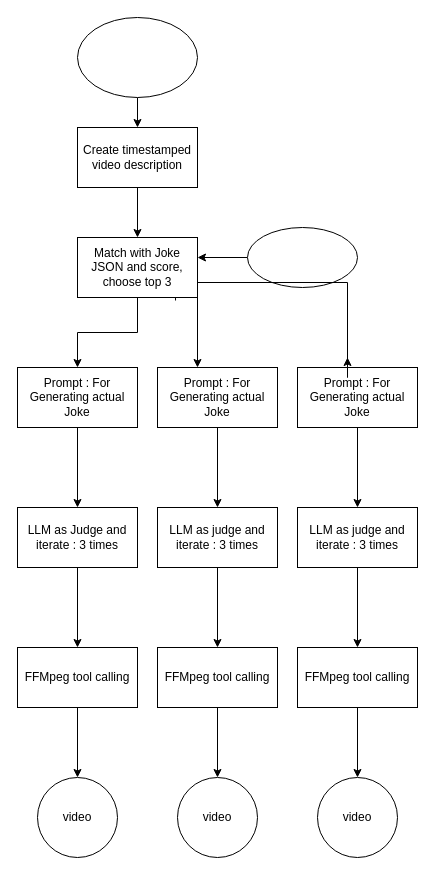
Some shapes in this 435 by 875 pixel diagram are drawn without their labels. The centre of each missing label's shape, as x and y in pixels:
"Joke Structure JSONs" belongs at point (302, 257).
"Video Clip" belongs at point (137, 57).
